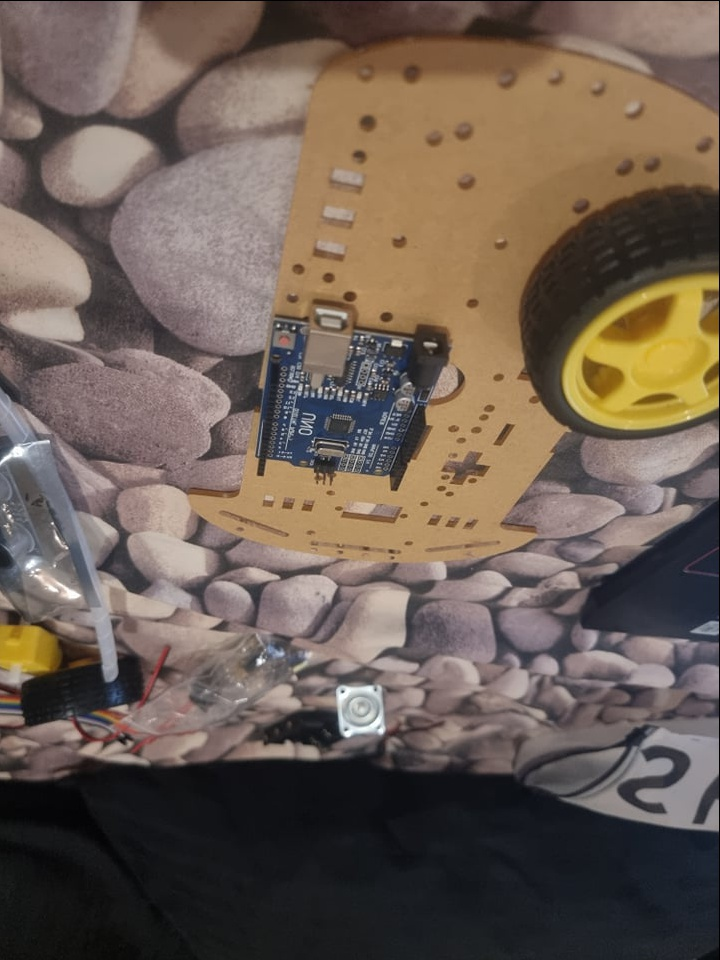BATTERY BOX: (263, 711, 344, 754)
UNO R3: (251, 297, 456, 493)
